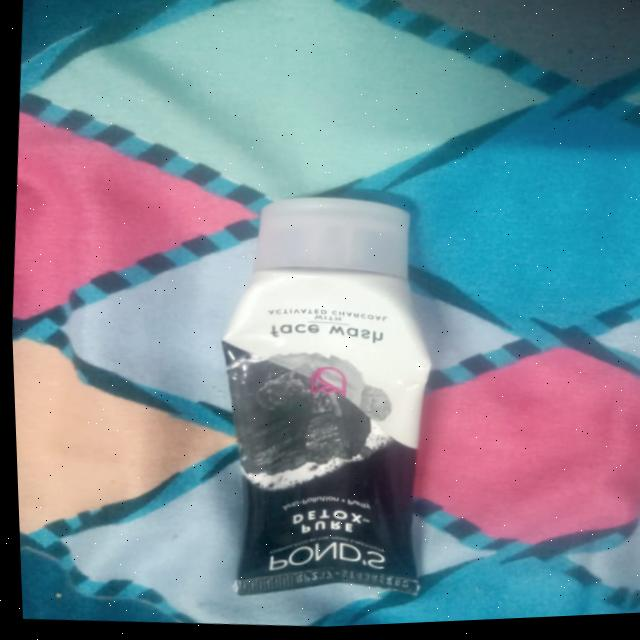lotion: (193, 188, 459, 620)
